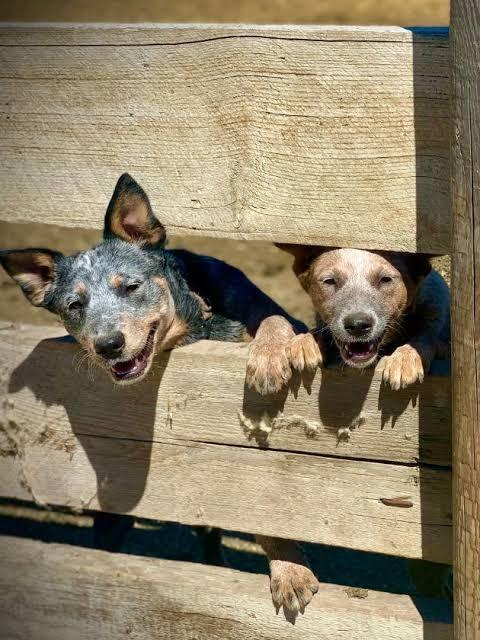adult_dog: (2, 169, 324, 395), (265, 241, 453, 625)
